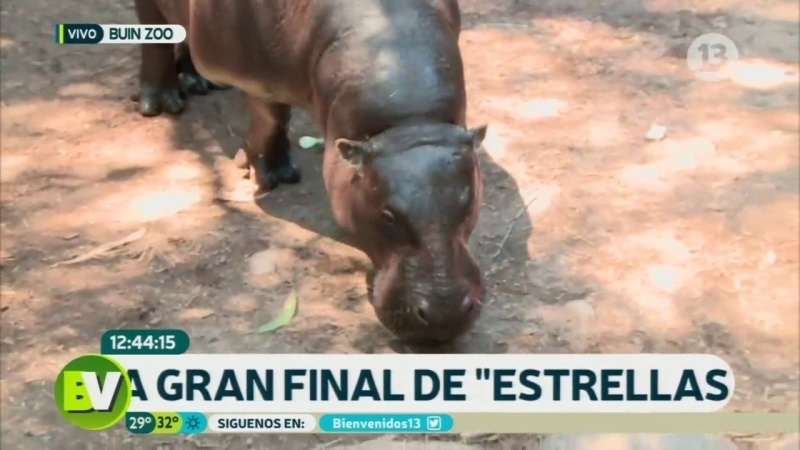hipopotamo: (122, 1, 529, 347)
